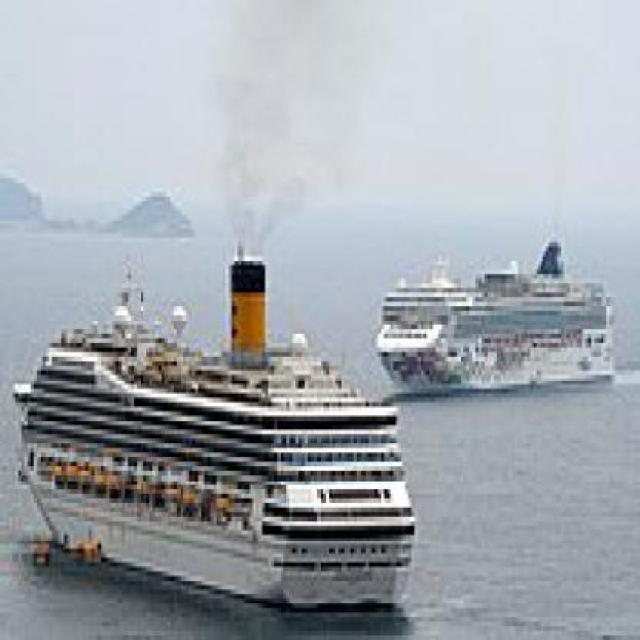cruise: (9, 220, 425, 619)
